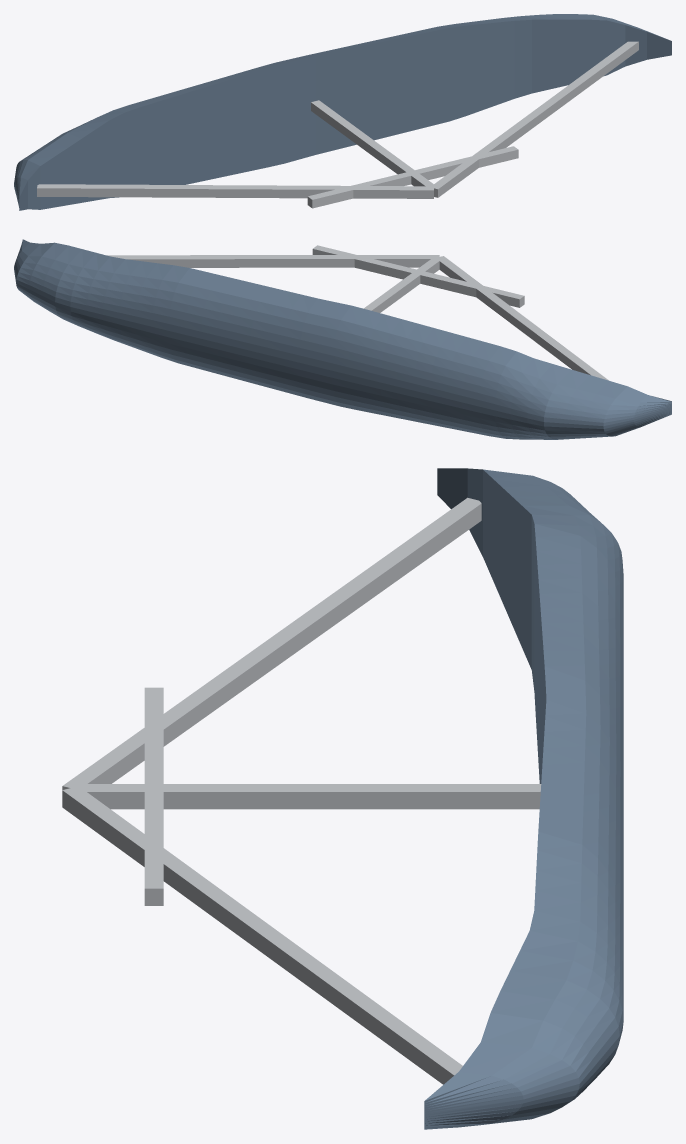
Rendered from loft-longship.glb.
3 views of the same model, one above another, from view 1: azimuth 30°, elevation 25°; view 2: azimuth 150°, elevation 25°; view 3: azimuth 270°, elevation 25° (orthographic). The views are drawn at different scales.
Parts seen in each view (by area): view 1: longship; view 2: longship; view 3: longship.
Part boxes in pixels (x1=…): longship: x1=14, y1=14, x2=671, y2=210; longship: x1=14, y1=239, x2=671, y2=439; longship: x1=62, y1=468, x2=623, y2=1129.
Size of the model in its own units: 1.89 by 0.2796 by 0.7077.
